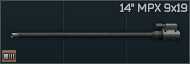MPX 9x19 14 inch barrel: (0, 0, 190, 64)
